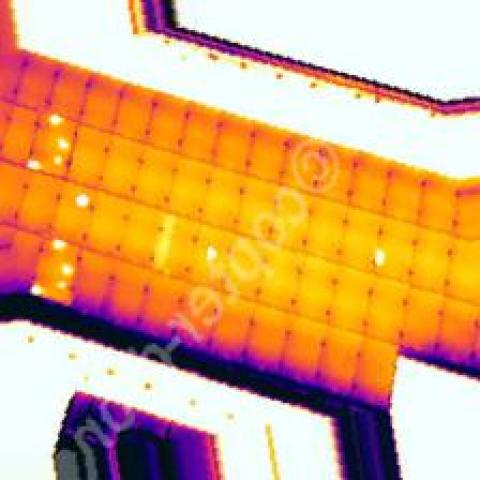fault: (371, 242, 388, 270), (71, 191, 92, 212), (21, 154, 45, 172), (45, 109, 64, 129), (202, 242, 218, 264), (54, 133, 70, 152), (28, 280, 45, 296), (60, 262, 75, 278), (50, 152, 64, 167), (52, 238, 66, 253), (54, 278, 68, 292)
